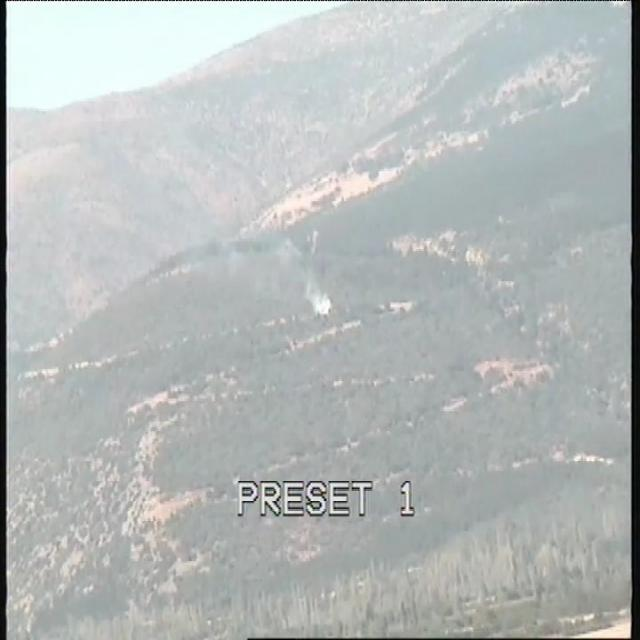smoke: (299, 282, 332, 317)
